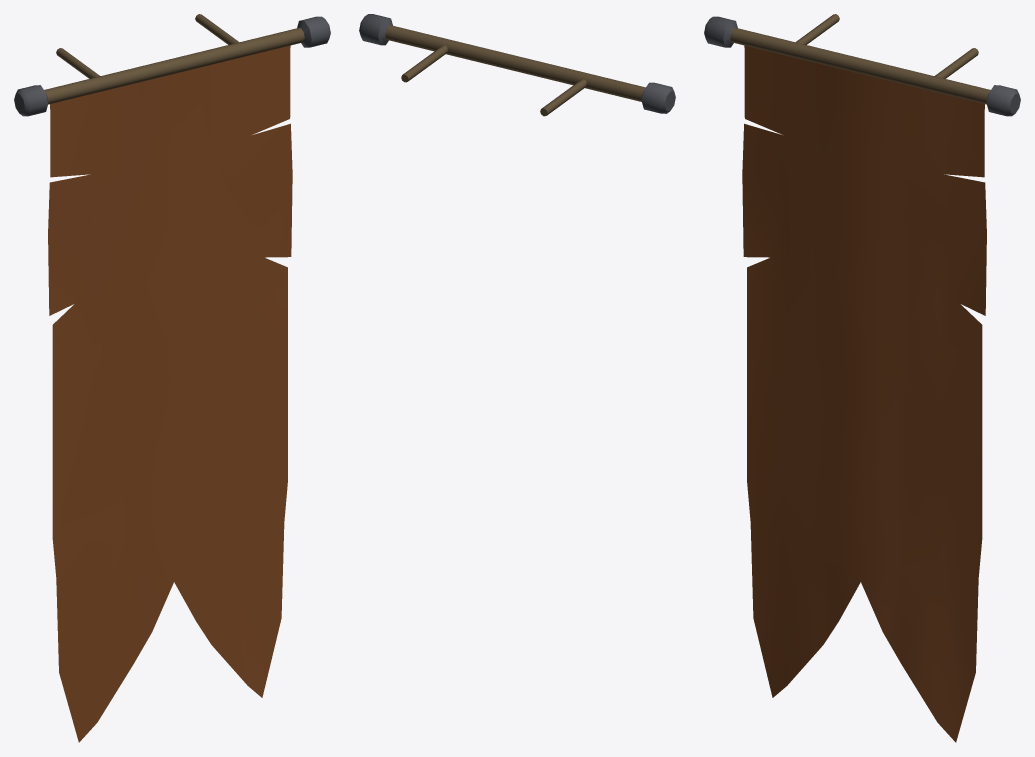
File: castle_wall_flag.glb
3 renders of one model, left to right at view 1: azimuth 30°, elevation 25°; view 2: azimuth 150°, elevation 25°; view 3: azimuth 330°, elevation 25°, orthographic.
Visible parts, largest first — view 1: Flag_Wall2; view 2: Flag_Wall2; view 3: Flag_Wall2.
Part boxes in pixels (x1,y1,x2,y2): Flag_Wall2: (14,14,330,742); Flag_Wall2: (359,14,675,116); Flag_Wall2: (704,14,1020,742).
Bounding box in the file's own units: 1.13 × 2.35 × 0.3225.
